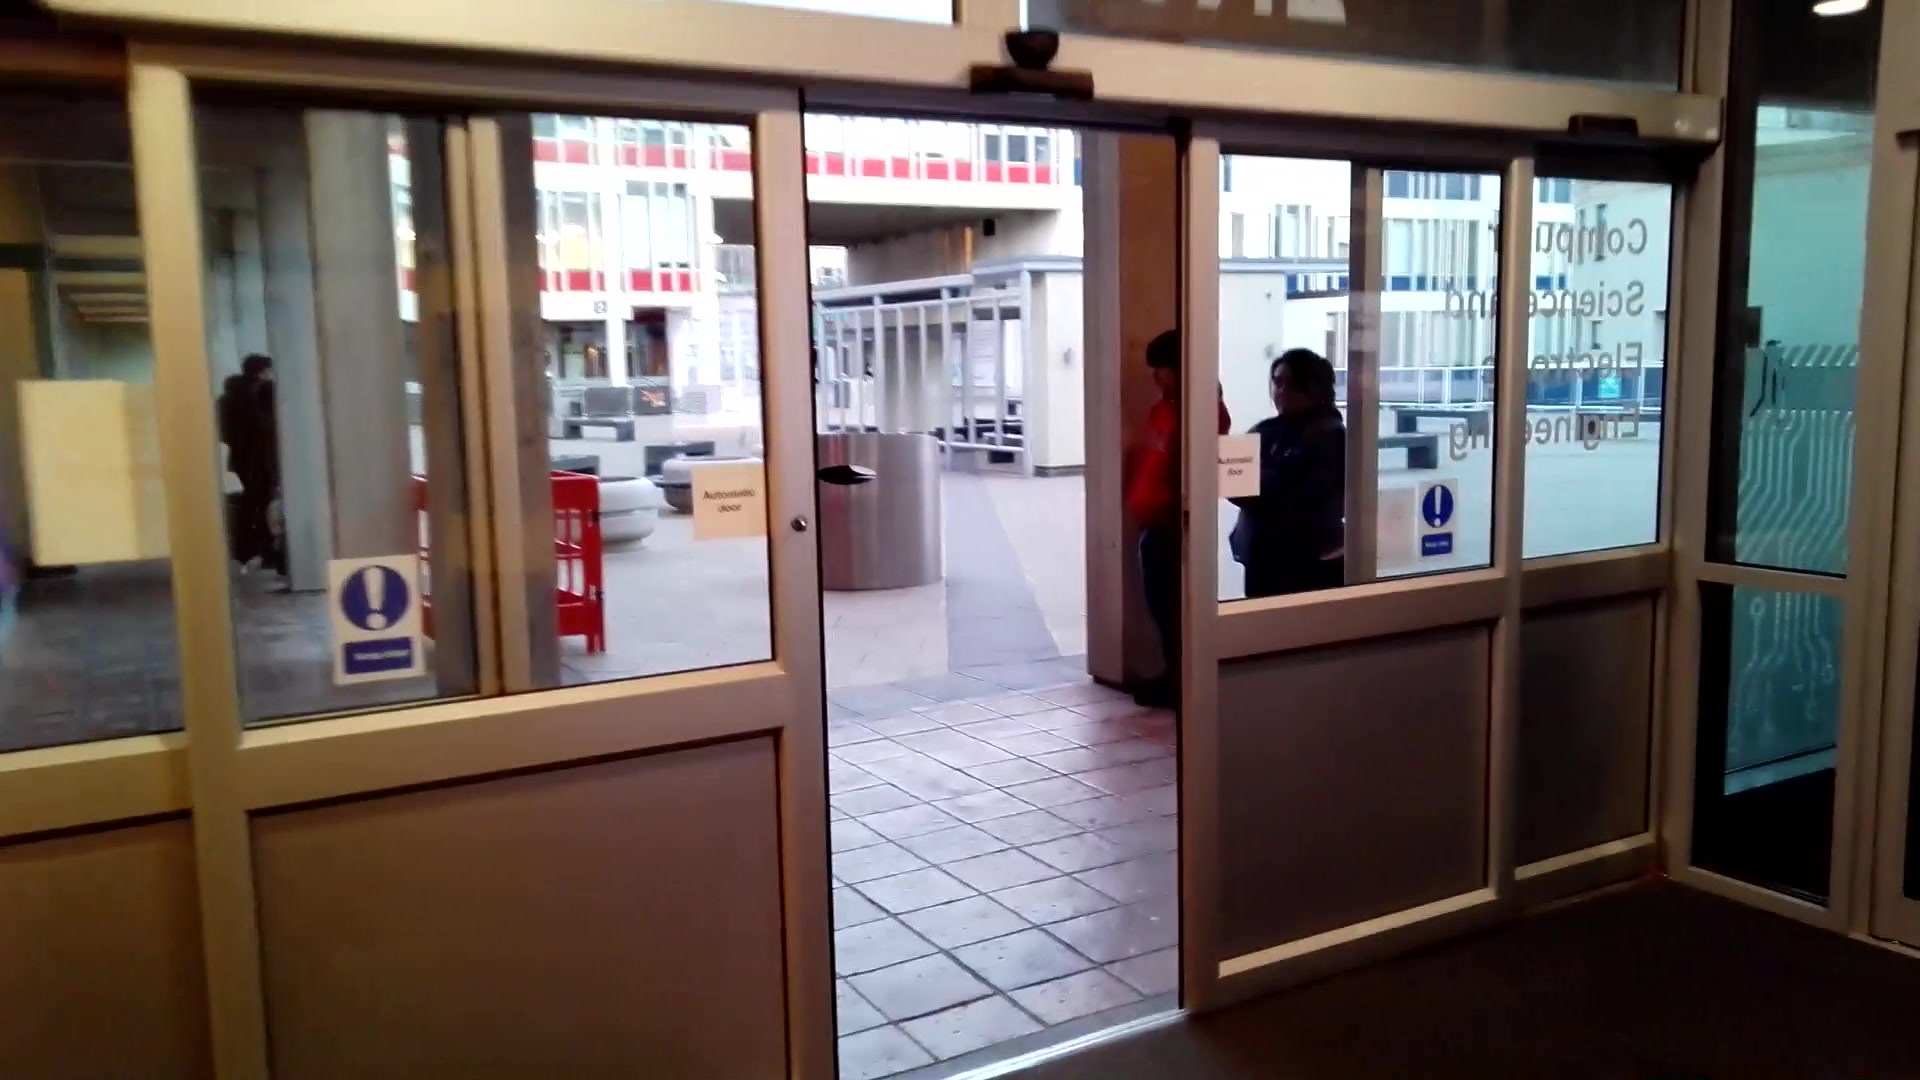Bin: (796, 422, 944, 597)
